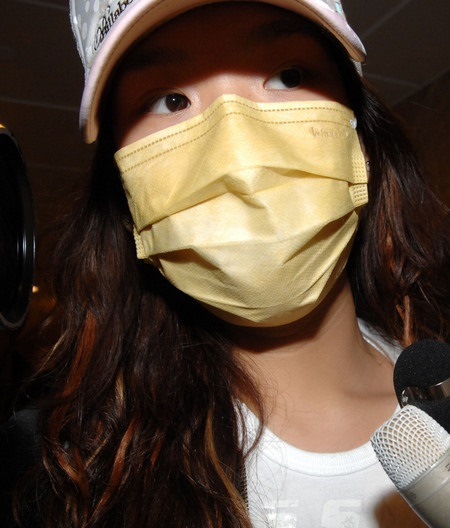face_mask: (108, 0, 357, 318)
